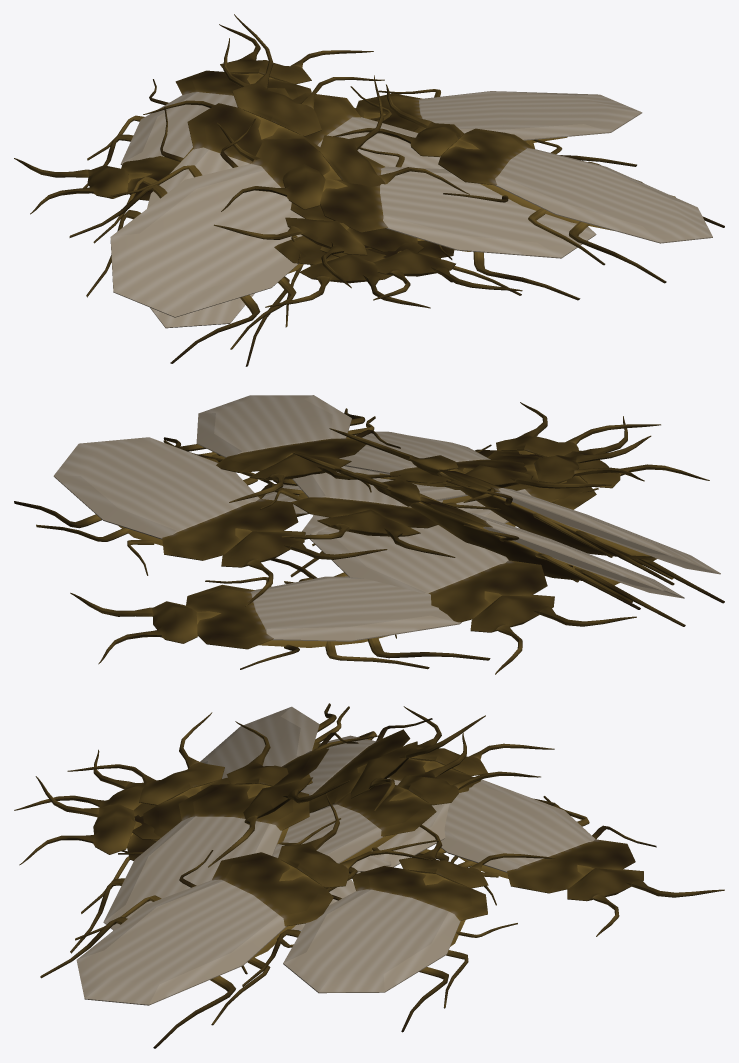
Rendered from M_Insects.fbx.
The picture shows the model from 3 angles, top to bottom: view 1: azimuth 30°, elevation 25°; view 2: azimuth 150°, elevation 25°; view 3: azimuth 270°, elevation 25°; orthographic projection. The views are drawn at different scales.
Visible parts, largest first — view 1: cockroaches_GEO; view 2: cockroaches_GEO; view 3: cockroaches_GEO.
Boxes of the visible parts, x1,y1,x2,y2 form: cockroaches_GEO: (14,14,724,366); cockroaches_GEO: (14,395,724,674); cockroaches_GEO: (14,703,724,1048).
Size of the model in its own units: 20.45 by 6.96 by 21.24.
1 material, 1 textured.
